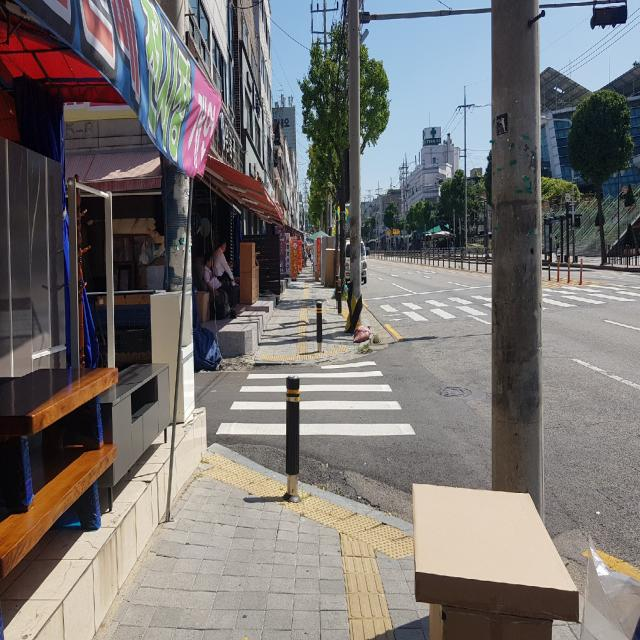횡단보도: (215, 360, 418, 438), (378, 298, 488, 326), (547, 289, 629, 307)
